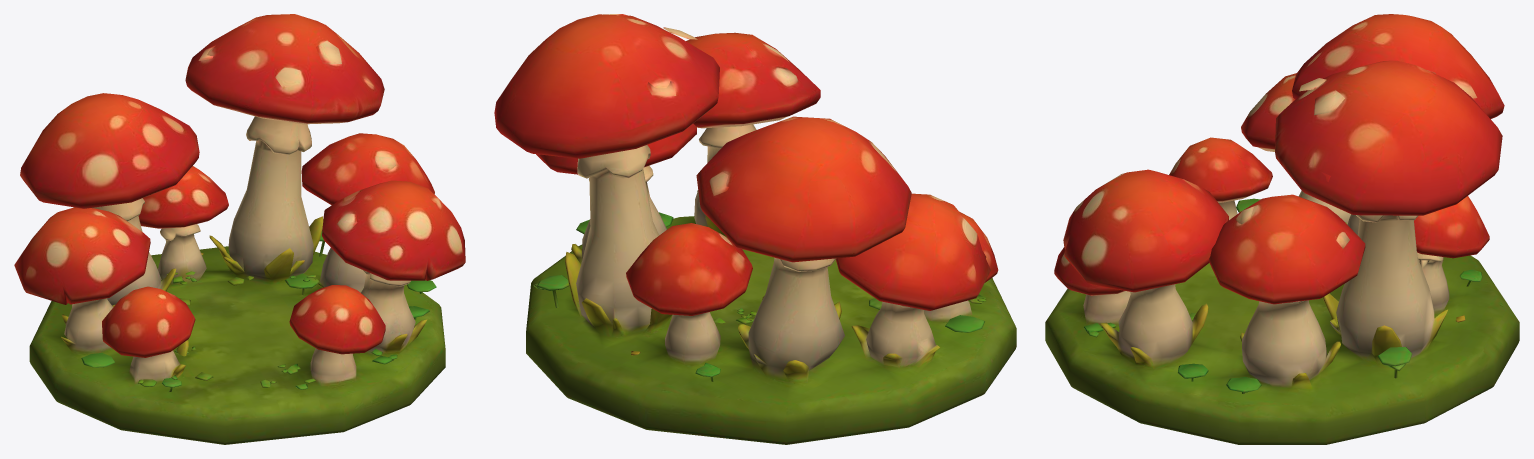
The model's file is mushroom_ring.glb.
The picture shows the model from 3 angles, left to right: view 1: azimuth 30°, elevation 25°; view 2: azimuth 150°, elevation 25°; view 3: azimuth 270°, elevation 25°; orthographic projection. The views are drawn at different scales.
Parts seen in each view (by area): view 1: SkyRally_prop_forest_mushroom_ring; view 2: SkyRally_prop_forest_mushroom_ring; view 3: SkyRally_prop_forest_mushroom_ring.
Boxes of the visible parts, x1=… form: SkyRally_prop_forest_mushroom_ring: x1=14, y1=14, x2=465, y2=444; SkyRally_prop_forest_mushroom_ring: x1=494, y1=14, x2=1016, y2=444; SkyRally_prop_forest_mushroom_ring: x1=1045, y1=14, x2=1519, y2=444.
Size of the model in its own units: 14 by 9.79 by 13.01.
1 material, 1 textured.
